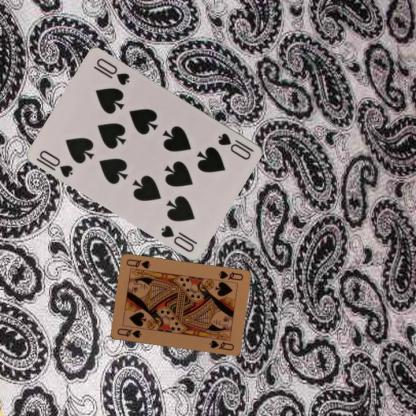10s: (216, 130, 256, 161), (37, 147, 75, 179)
Qs: (114, 326, 143, 340), (215, 268, 244, 282)
